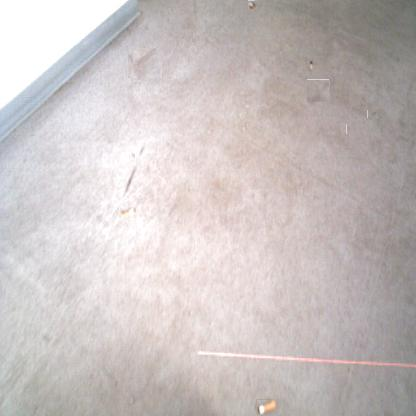dirty: (256, 399, 276, 415), (119, 206, 136, 218), (247, 1, 256, 9), (307, 60, 313, 70)
mark: (130, 50, 160, 80), (307, 80, 330, 102), (122, 164, 137, 193), (368, 110, 378, 119), (138, 144, 145, 155), (346, 124, 351, 134), (129, 152, 135, 160)
